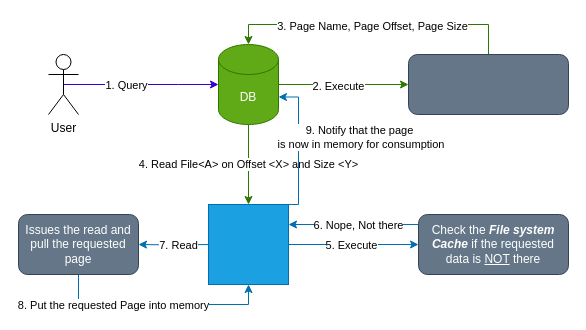
Some shapes in this 586 by 330 pixel diagram are drawn without their labels. Here are the shapes that lost their labels. From the top down, the centre of each, then its label:
the point at 488,84: Find out the Page where the request row lives
the point at 248,244: Operating System
